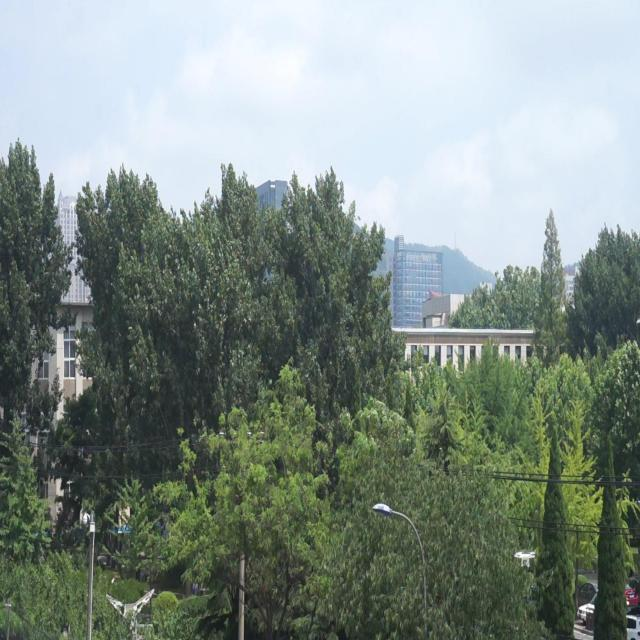UAV: (514, 552, 535, 568)
